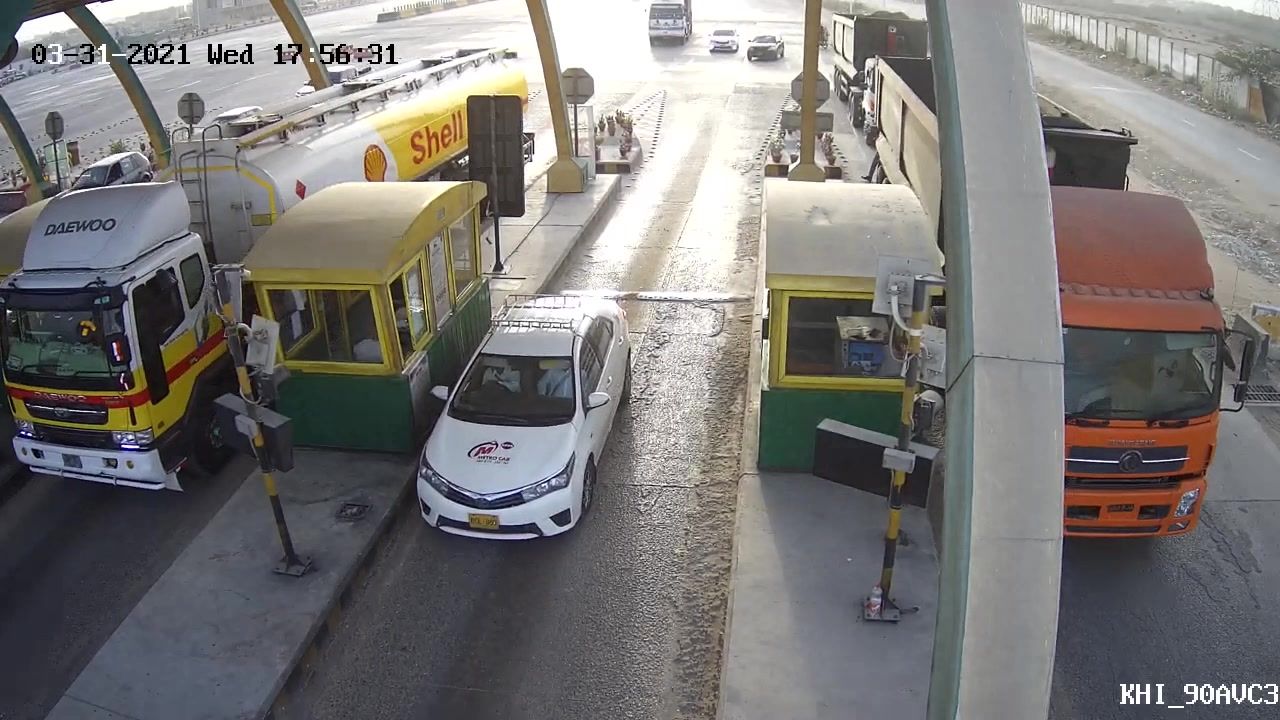F1: (398, 291, 640, 546)
